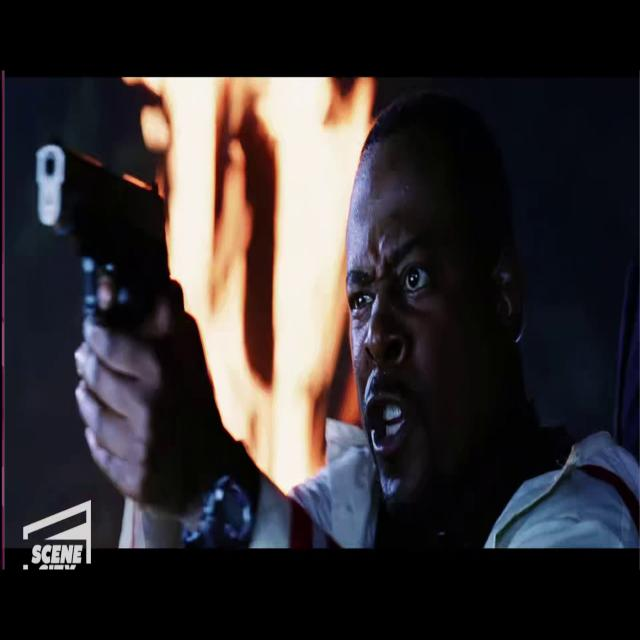weapons: (25, 129, 182, 385)
